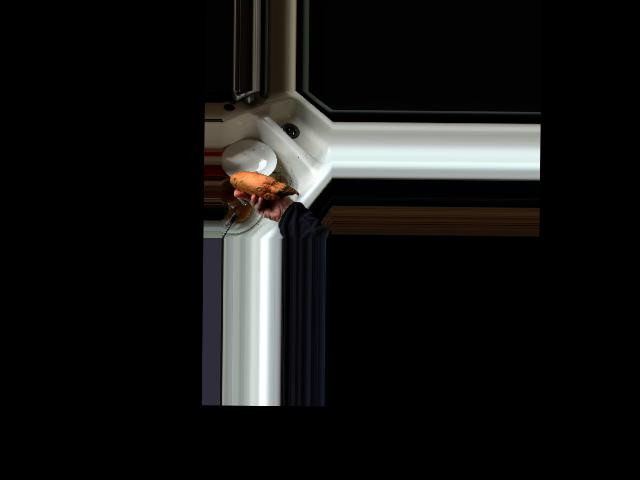sweet_potato: (230, 169, 299, 200)
